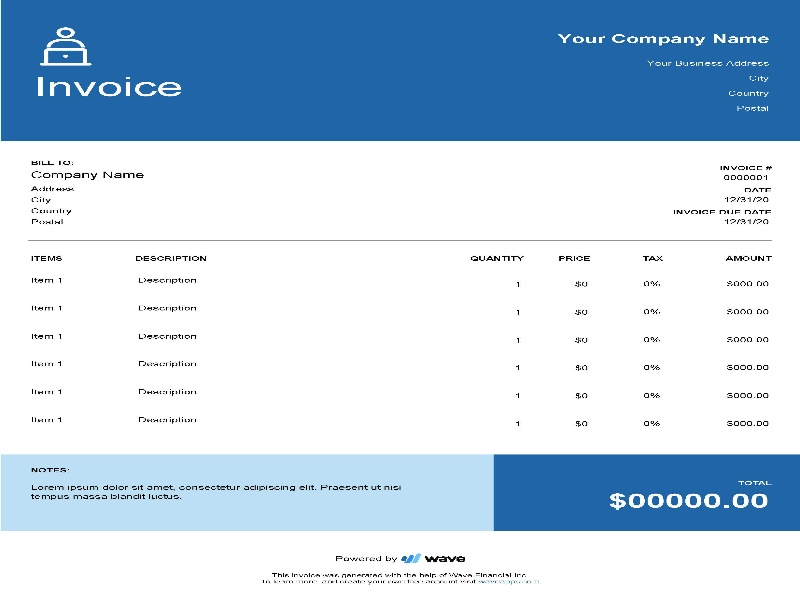invoice_detail: (24, 152, 148, 227)
table: (24, 239, 779, 434)
total: (598, 478, 773, 517)
